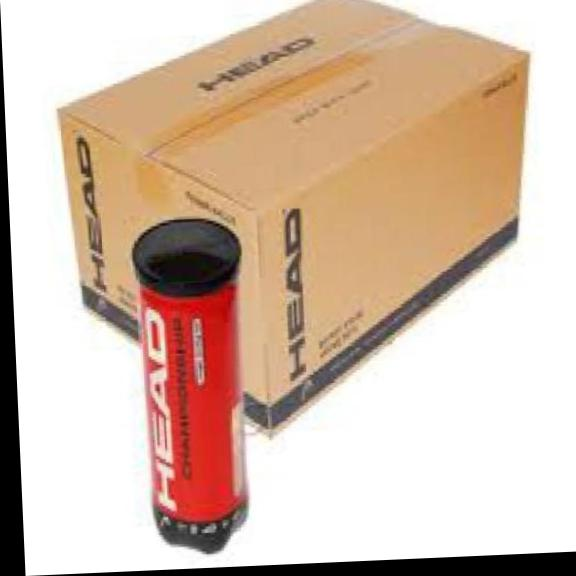Kertas: (60, 0, 528, 431)
